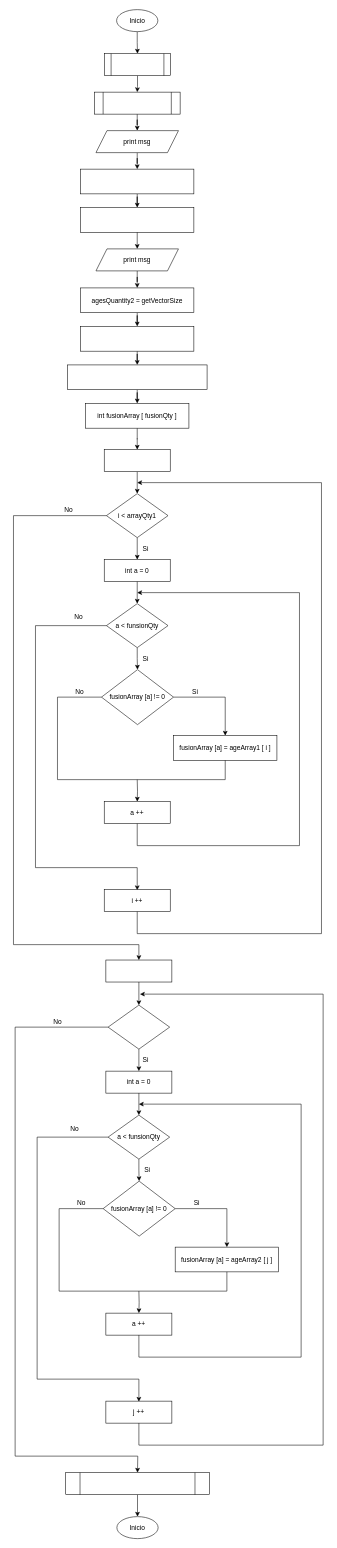
This 337x1548 diagram has some shape labels left out. The shapes that lost their labels are listed below. From the top down, each one's centre as x and y in pixels, then its label:
At (x=137, y=64): "fillVector()".
At (x=137, y=103): "getVectorSize()".
At (x=137, y=181): "agesQuantity1 = getVectorSize".
At (x=137, y=219): "int* ageArray1 = fillVector(agesQuantity1)".
At (x=137, y=338): "int* ageArray2 = fillVector(agesQuantity1)".
At (x=137, y=377): "fusionQty = agesQuantity1 + agesQuantity2".
At (x=137, y=460): "int i = 0".
At (x=138, y=970): "int j = 0".
At (x=139, y=1027): "i < arrayQty2".
At (x=137, y=1483): "getVectorAges(fusionArray[], fusionQty, Msg)".
